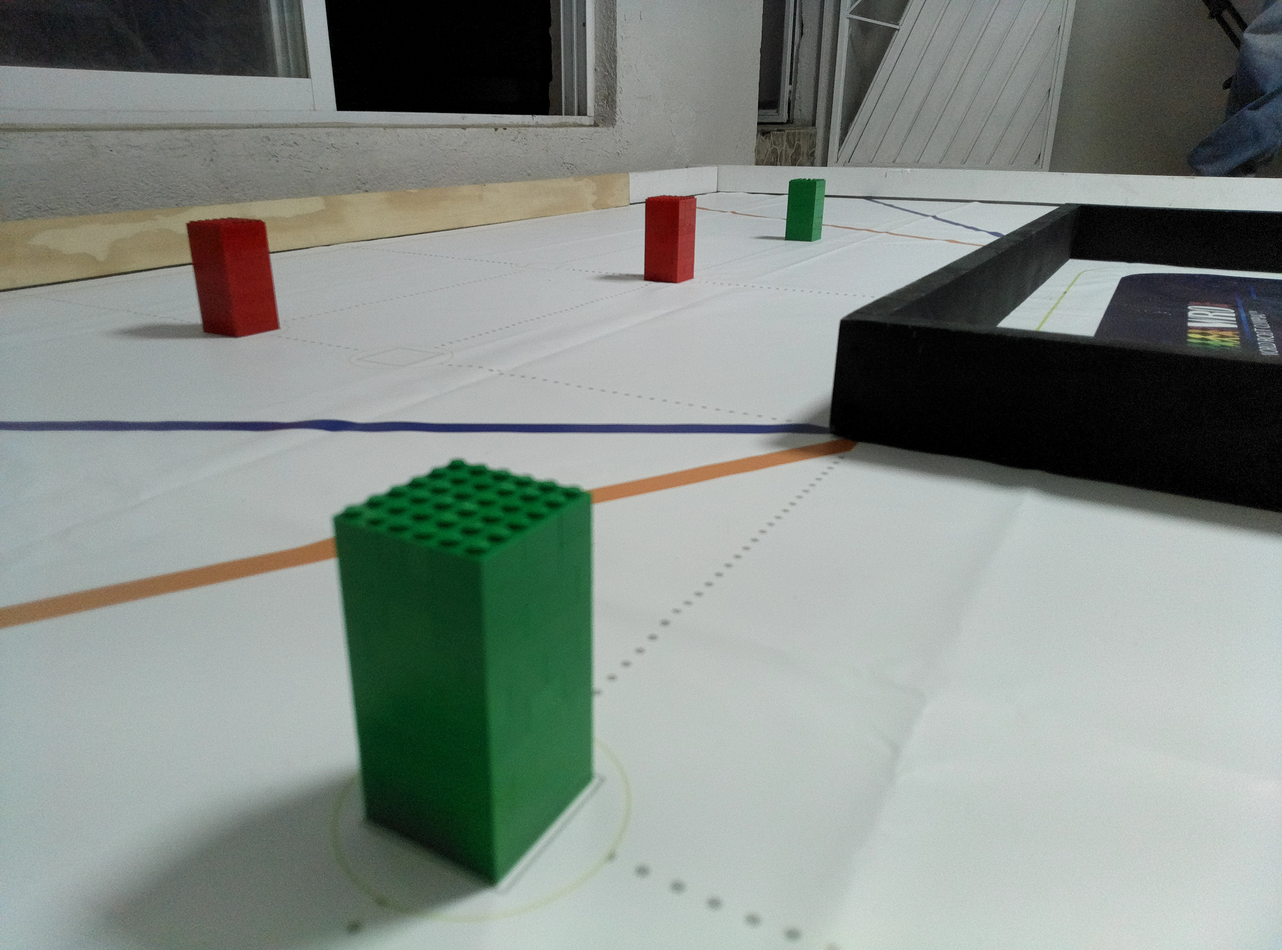greenbox: (328, 454, 601, 890), (783, 176, 827, 242)
redbox: (185, 216, 283, 340), (642, 195, 697, 284)
